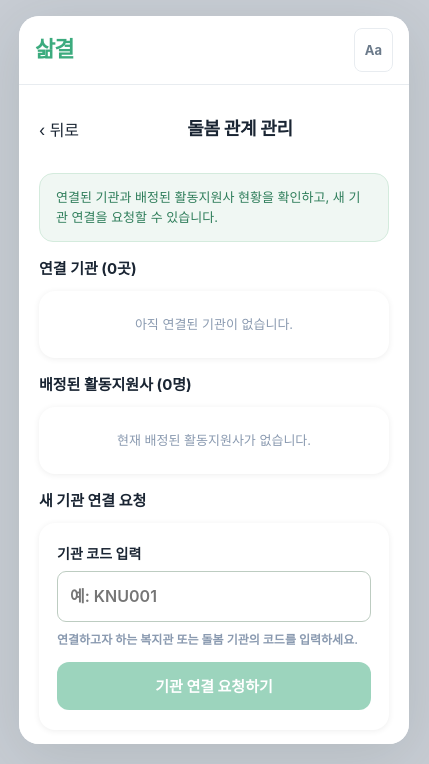
Test: CareRelationsPage › 기관 코드를 입력하고 연결 요청을 전송하면 성공 피드백을 표시한다
In the field named "연결할 기관 코드": [214, 597] box [57, 571, 371, 622], type "new002"
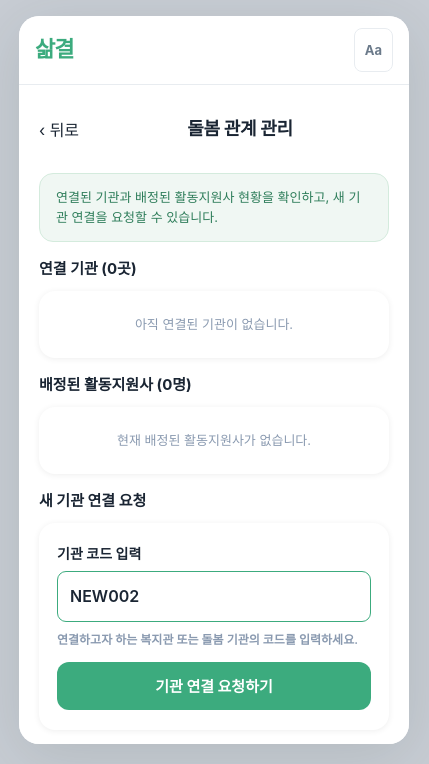
Click the button "기관 연결 요청하기": [214, 686] box [57, 662, 371, 710]
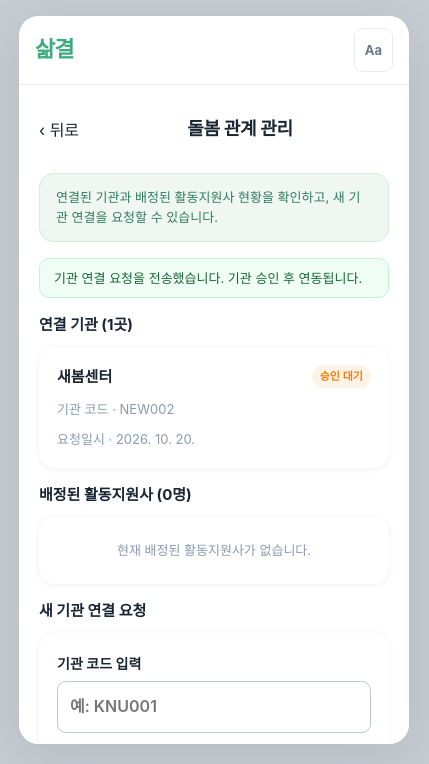
Now the message shows "기관 연결 요청을 전송했습니다.", box [54, 270, 362, 286]
